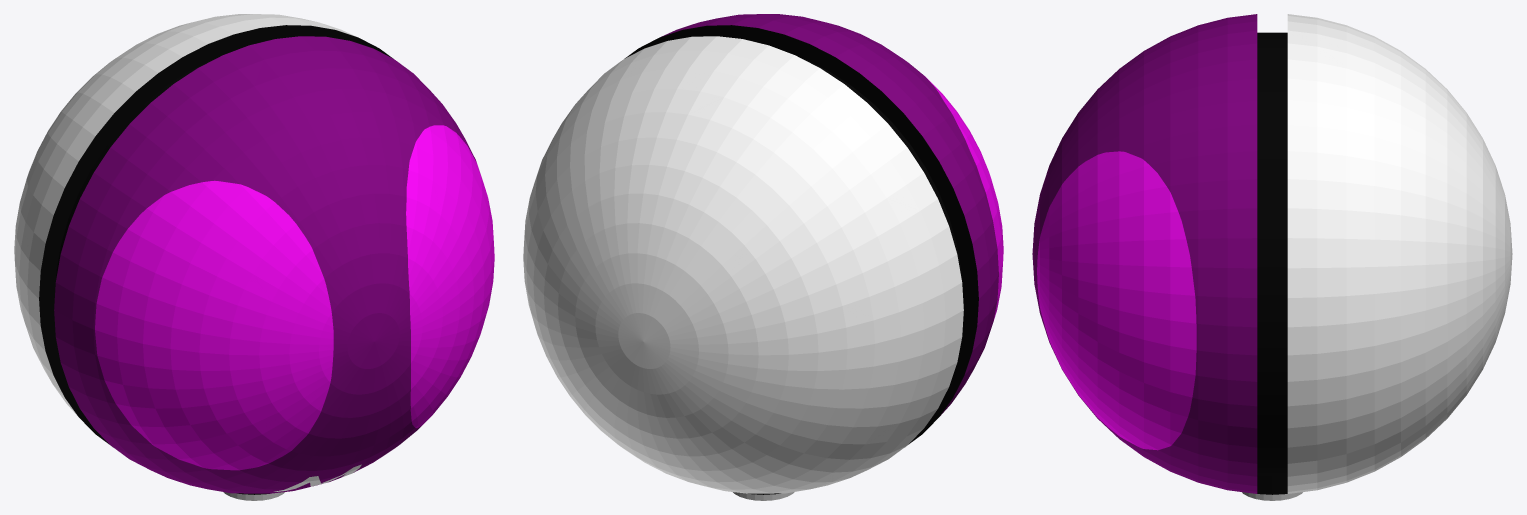
3 renders of one model, left to right at view 1: azimuth 30°, elevation 25°; view 2: azimuth 150°, elevation 25°; view 3: azimuth 270°, elevation 25°, orthographic.
Visible parts, largest first — view 1: master ball; view 2: master ball; view 3: master ball.
Boxes of the visible parts, box(x1,y1,x2,y2) form: master ball: box(14, 14, 494, 500); master ball: box(523, 14, 1003, 500); master ball: box(1032, 14, 1512, 500).
Size of the model in its own units: 77.5 by 80.13 by 77.5.
